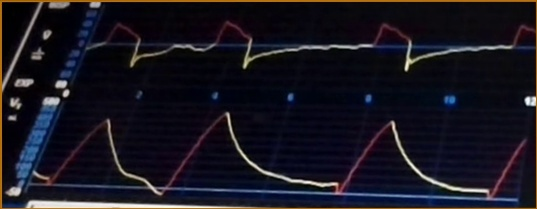Ineffective_effort Flow: (89, 17, 535, 82)
Ineffective_effort Volume: (32, 109, 525, 200)
